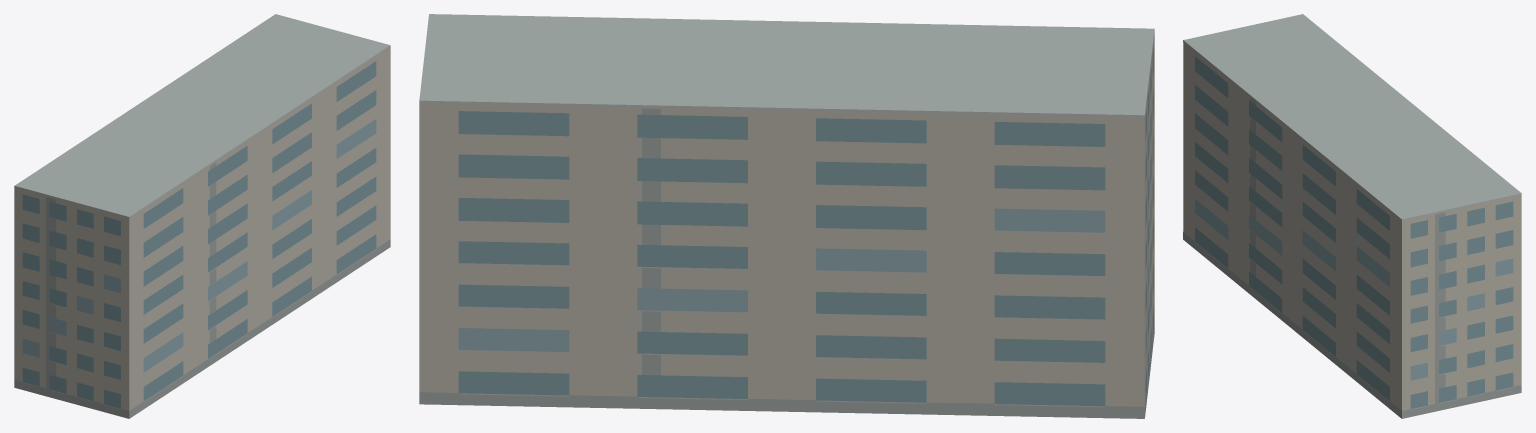
File: residential-5eccf16e-094b-4dbc-b752-cb677ab9032d.glb
3 renders of one model, left to right at view 1: azimuth 30°, elevation 25°; view 2: azimuth 150°, elevation 25°; view 3: azimuth 270°, elevation 25°, orthographic. The views are drawn at different scales.
Parts seen in each view (by area): view 1: residential-5eccf16e-094b-4dbc-b752-cb677ab9032d.tmp; view 2: residential-5eccf16e-094b-4dbc-b752-cb677ab9032d.tmp; view 3: residential-5eccf16e-094b-4dbc-b752-cb677ab9032d.tmp.
Part boxes in pixels (<box>): residential-5eccf16e-094b-4dbc-b752-cb677ab9032d.tmp: <box>14,14,390,418</box>; residential-5eccf16e-094b-4dbc-b752-cb677ab9032d.tmp: <box>419,14,1154,418</box>; residential-5eccf16e-094b-4dbc-b752-cb677ab9032d.tmp: <box>1183,14,1521,418</box>.
Size of the model in its own units: 47.14 by 21.35 by 32.84.
